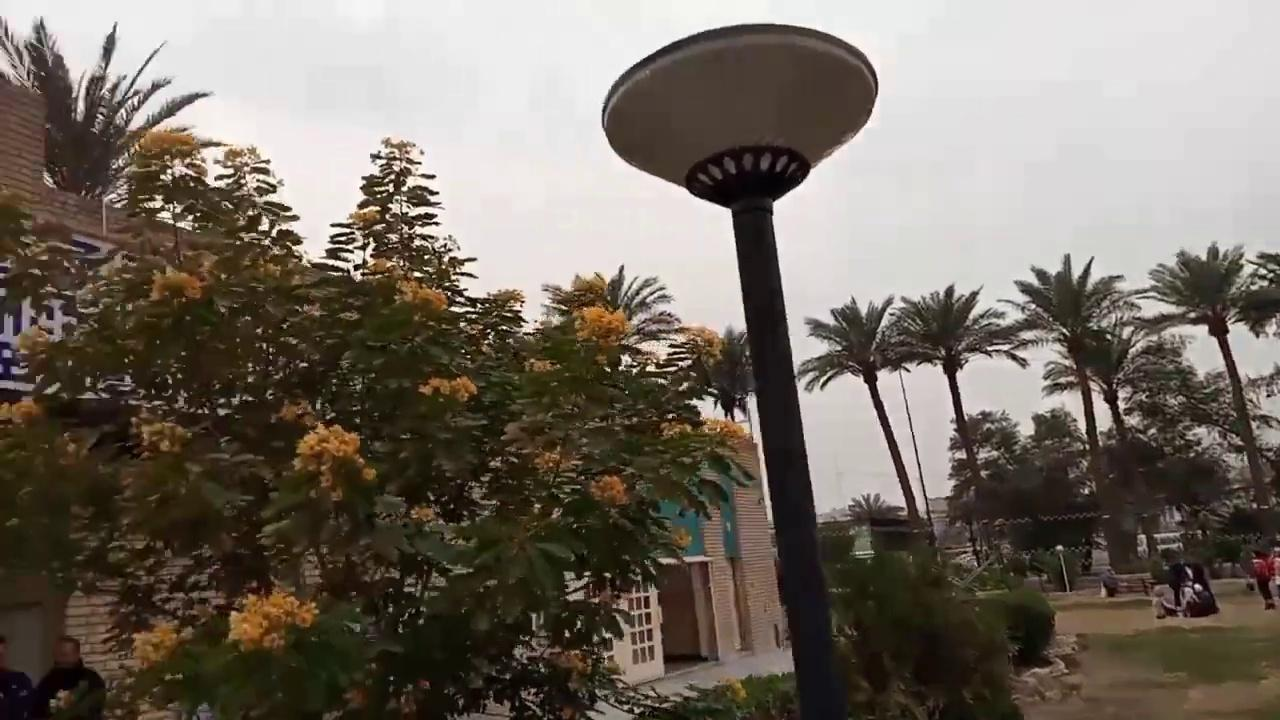person: (32, 635, 106, 719), (0, 633, 34, 719), (1250, 547, 1276, 609)
tree: (487, 262, 754, 714), (302, 135, 525, 514), (997, 251, 1147, 575), (1130, 240, 1279, 532), (0, 13, 213, 203), (887, 282, 1028, 564), (944, 405, 1102, 582), (944, 406, 1024, 562), (702, 322, 755, 425)
